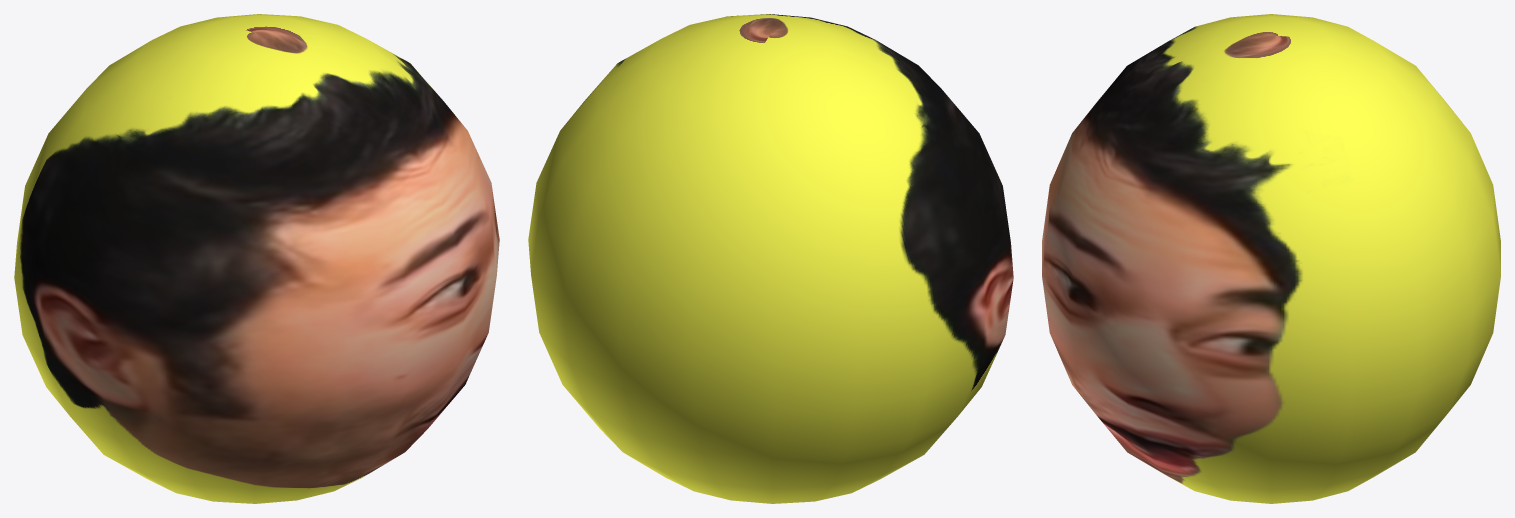
File: pogChampHead.fbx
3 views of the same model, side by side, from view 1: azimuth 30°, elevation 25°; view 2: azimuth 150°, elevation 25°; view 3: azimuth 270°, elevation 25° (orthographic).
Visible parts, largest first — view 1: nurbsToPoly1; view 2: nurbsToPoly1; view 3: nurbsToPoly1.
Part boxes in pixels (left/top/right/bottom): nurbsToPoly1: left=14, top=14, right=499, bottom=503; nurbsToPoly1: left=528, top=14, right=1013, bottom=503; nurbsToPoly1: left=1042, top=14, right=1500, bottom=503.
Size of the model in its own units: 2 by 2 by 1.86.
